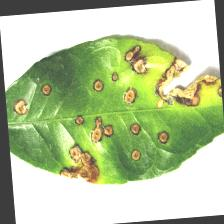canker: (9, 41, 224, 182)
